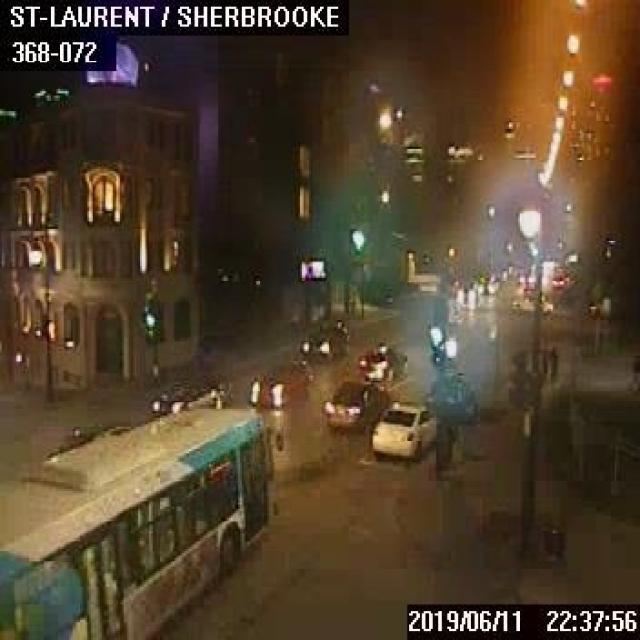bus: (0, 407, 282, 638)
pedestrian: (546, 342, 556, 378)
vehicle: (370, 401, 435, 457), (246, 356, 312, 404), (320, 379, 385, 426), (44, 424, 129, 459), (422, 366, 476, 421), (147, 378, 231, 412), (356, 341, 405, 379), (298, 318, 347, 356), (511, 292, 551, 313), (455, 280, 475, 302), (476, 276, 494, 292), (549, 273, 562, 287)
